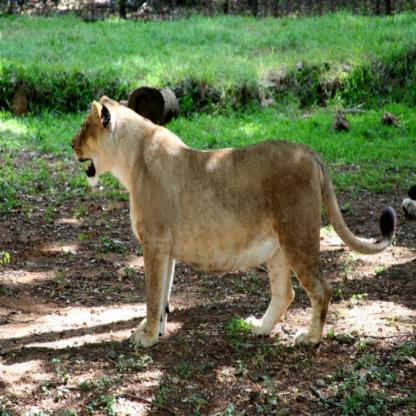lion: (66, 96, 128, 193)
